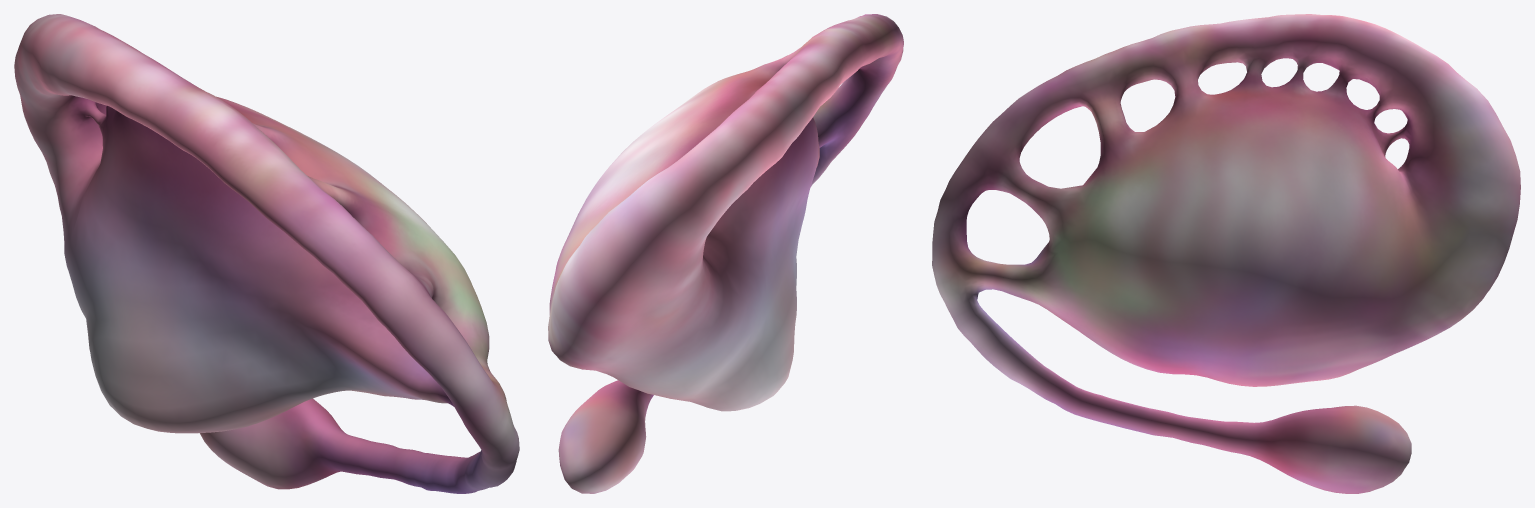
File: rSTRIATUMFINAL.obj
The picture shows the model from 3 angles, left to right: view 1: azimuth 30°, elevation 25°; view 2: azimuth 150°, elevation 25°; view 3: azimuth 270°, elevation 25°; orthographic projection. The views are drawn at different scales.
Visible parts, largest first — view 1: Group63990.1; view 2: Group63990.1; view 3: Group63990.1.
Boxes of the visible parts, x1=… form: Group63990.1: x1=14, y1=14, x2=519, y2=493; Group63990.1: x1=548, y1=14, x2=903, y2=493; Group63990.1: x1=932, y1=14, x2=1520, y2=493.
Size of the model in its own units: 308 by 499 by 664.
Materials: 1 (1 with a texture image).
